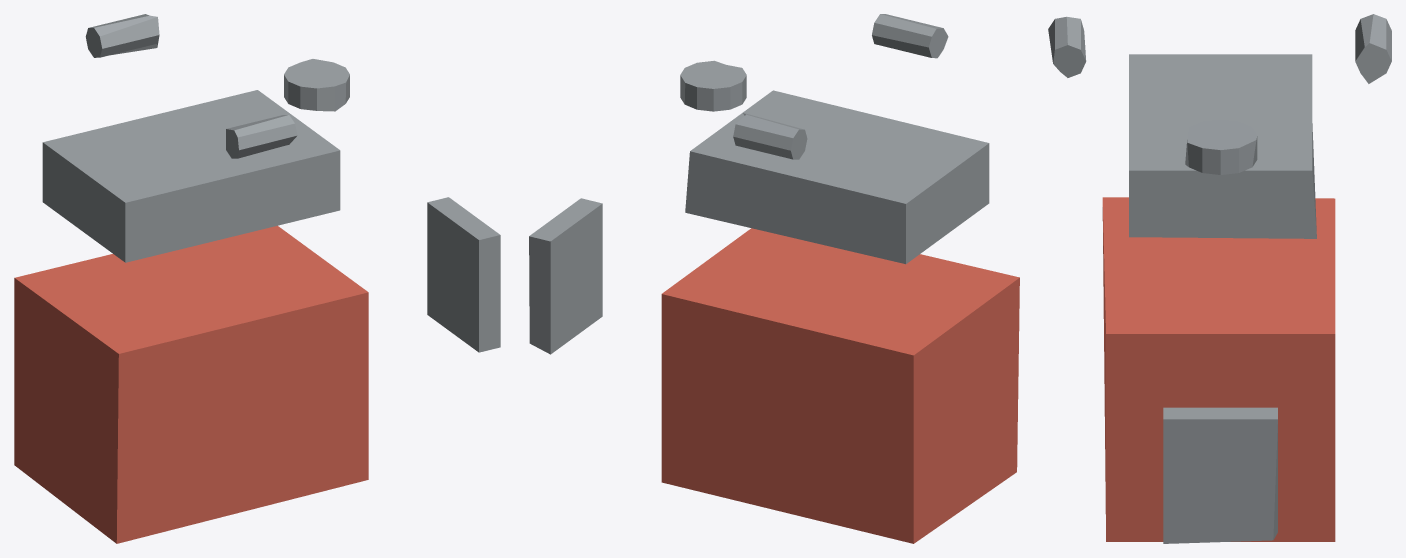
The model's file is generator.glb.
3 renders of one model, left to right at view 1: azimuth 30°, elevation 25°; view 2: azimuth 150°, elevation 25°; view 3: azimuth 270°, elevation 25°, orthographic. The views are drawn at different scales.
Visible parts, largest first — view 1: generator; view 2: generator; view 3: generator.
Boxes of the visible parts, x1=… form: generator: x1=14, y1=14, x2=500, y2=543; generator: x1=529, y1=14, x2=1019, y2=543; generator: x1=1048, y1=14, x2=1391, y2=543.
Bounding box in the file's own units: 0.5728 × 0.5401 × 0.3749.
